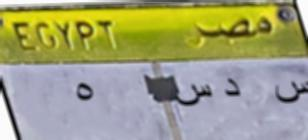5: (68, 77, 104, 110)
daal: (220, 73, 246, 104)
seen: (270, 75, 308, 114), (173, 77, 212, 109)
